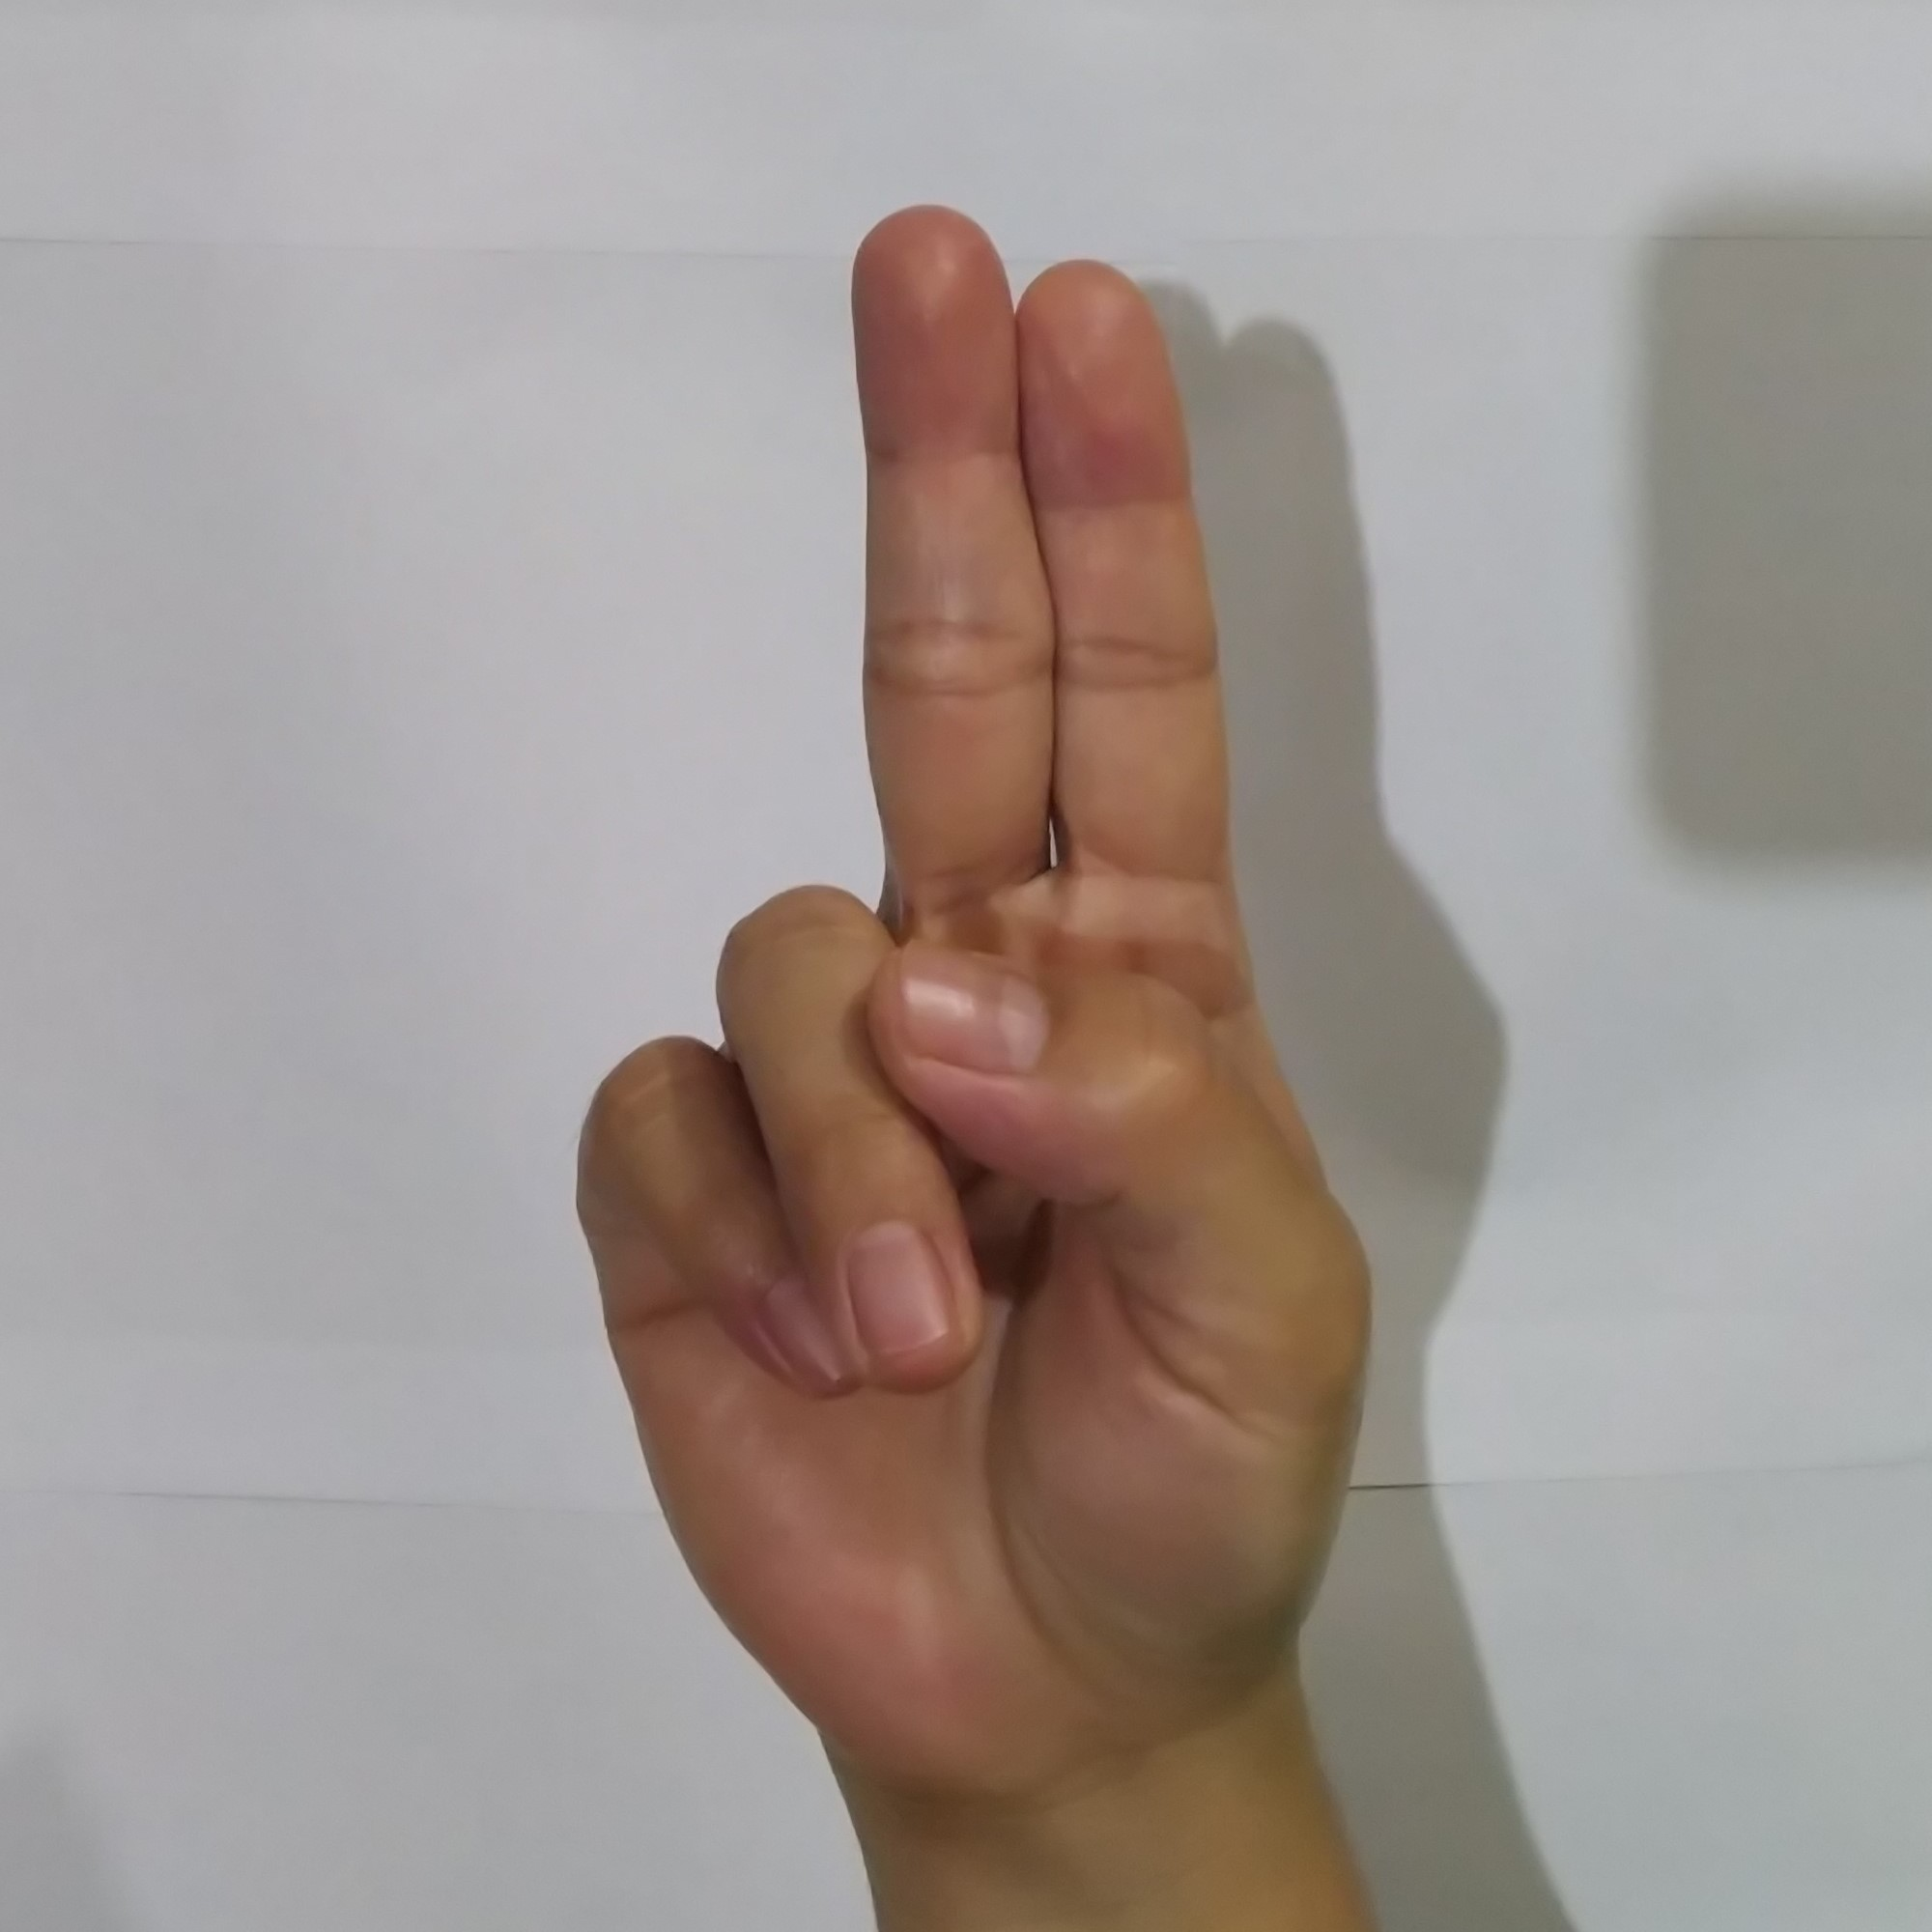U: (540, 173, 1407, 1783)
